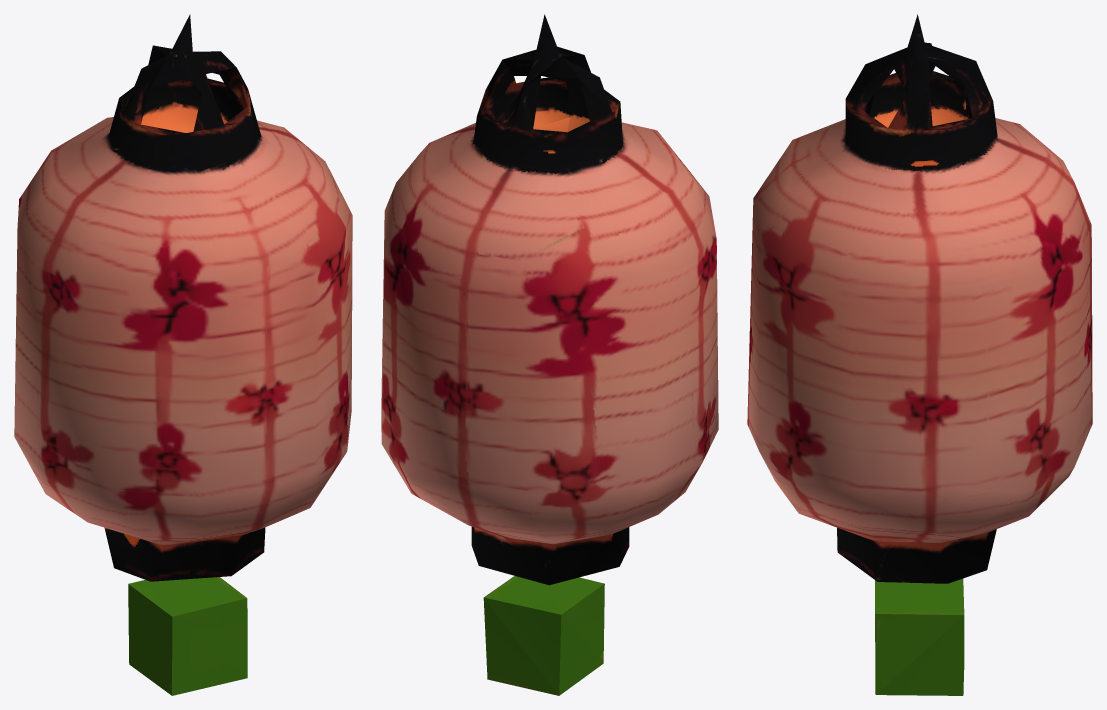
Rendered from blossom-paper-lantern.glb.
3 renders of one model, left to right at view 1: azimuth 30°, elevation 25°; view 2: azimuth 150°, elevation 25°; view 3: azimuth 270°, elevation 25°, orthographic.
Parts seen in each view (by area): view 1: geometry_0.001; view 2: geometry_0.001; view 3: geometry_0.001.
Boxes of the visible parts, left/top/right/bottom form: geometry_0.001: left=14, top=14, right=352, bottom=695; geometry_0.001: left=381, top=14, right=718, bottom=695; geometry_0.001: left=747, top=14, right=1092, bottom=695.
Bounding box in the file's own units: 0.4673 × 0.997 × 0.4692.
Materials: 1 (1 with a texture image).
